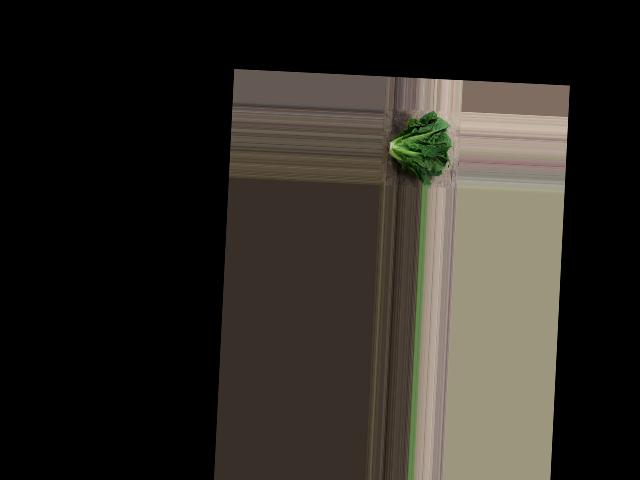lettuce: (382, 111, 454, 186)
